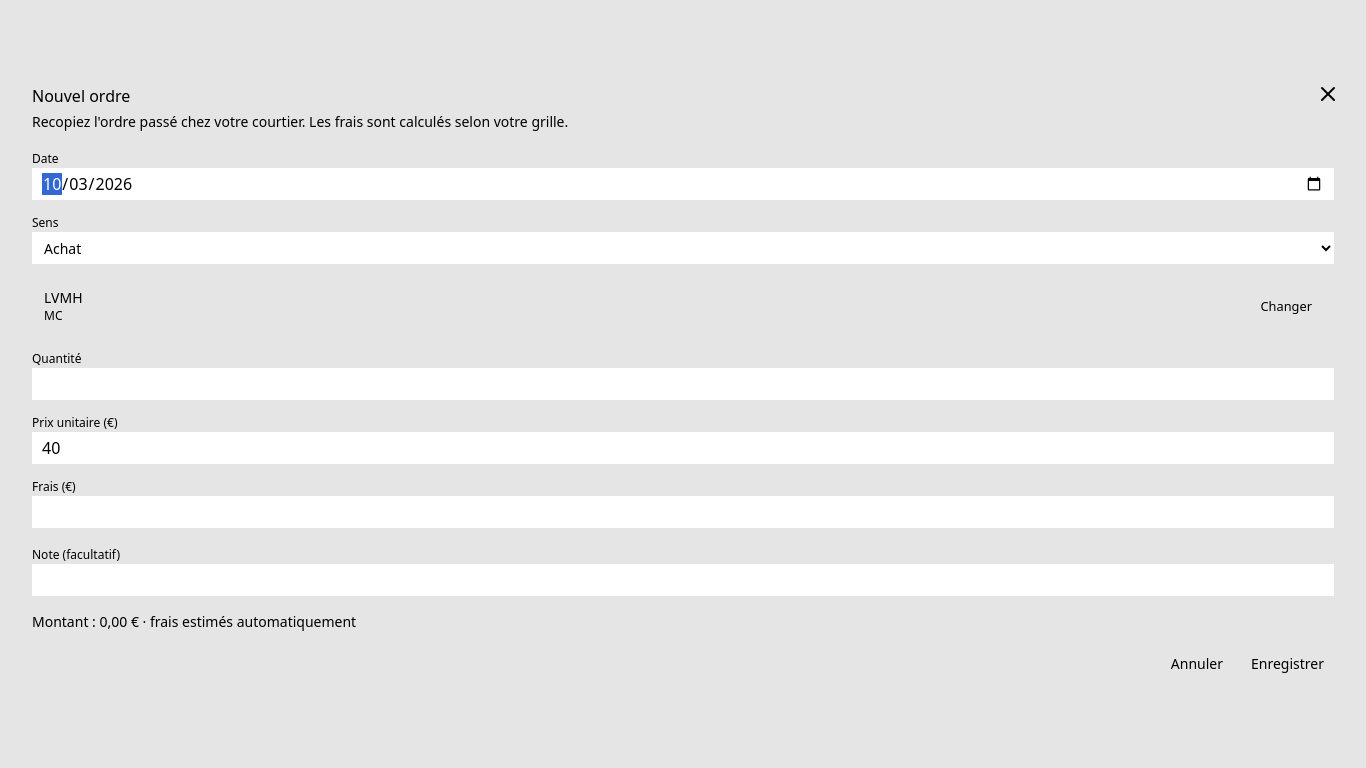
vider des frais saisis à la main revient à l'estimation automatique
The image size is (1366, 768).
Type "10" into the field labelled "Quantité" at (683, 384), box [32,368,1334,400]
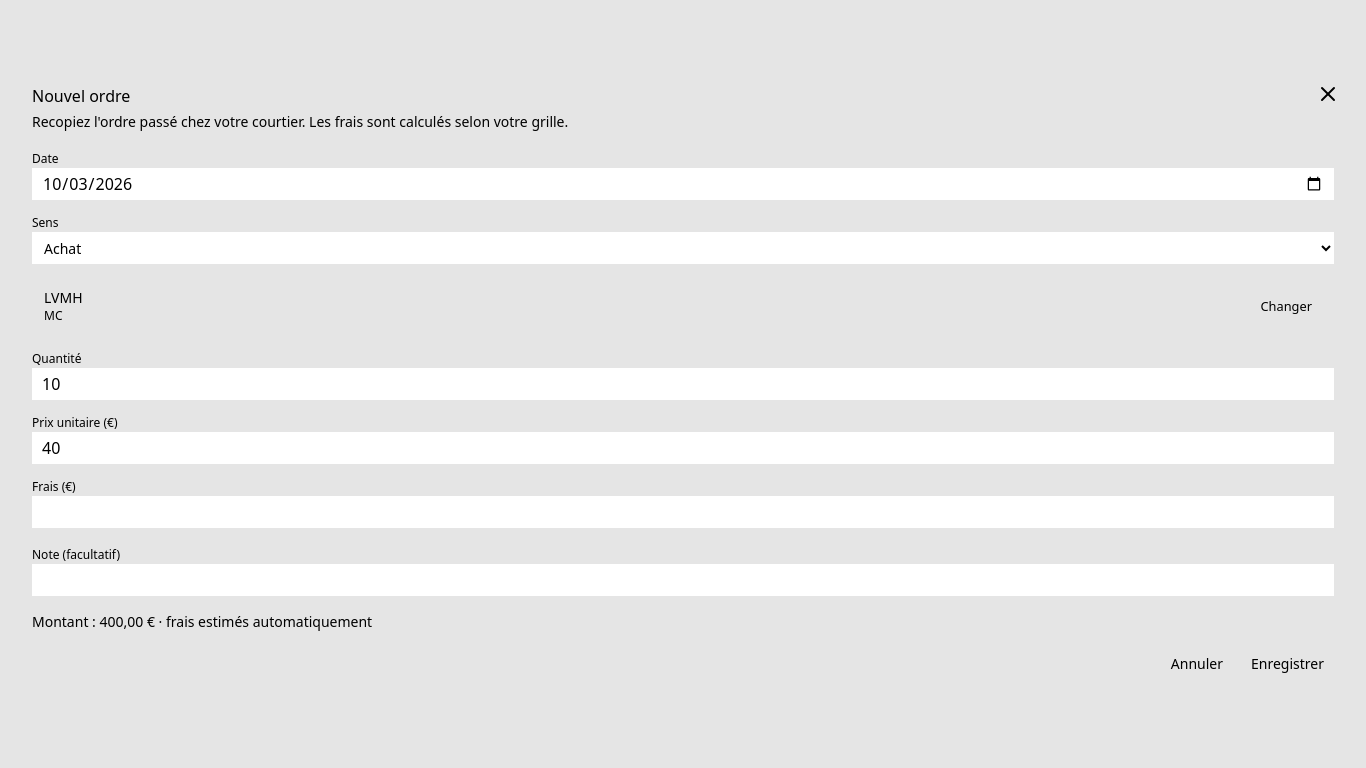
Type "5" into the field labelled "Frais (€)" at (683, 512), box [32,496,1334,528]
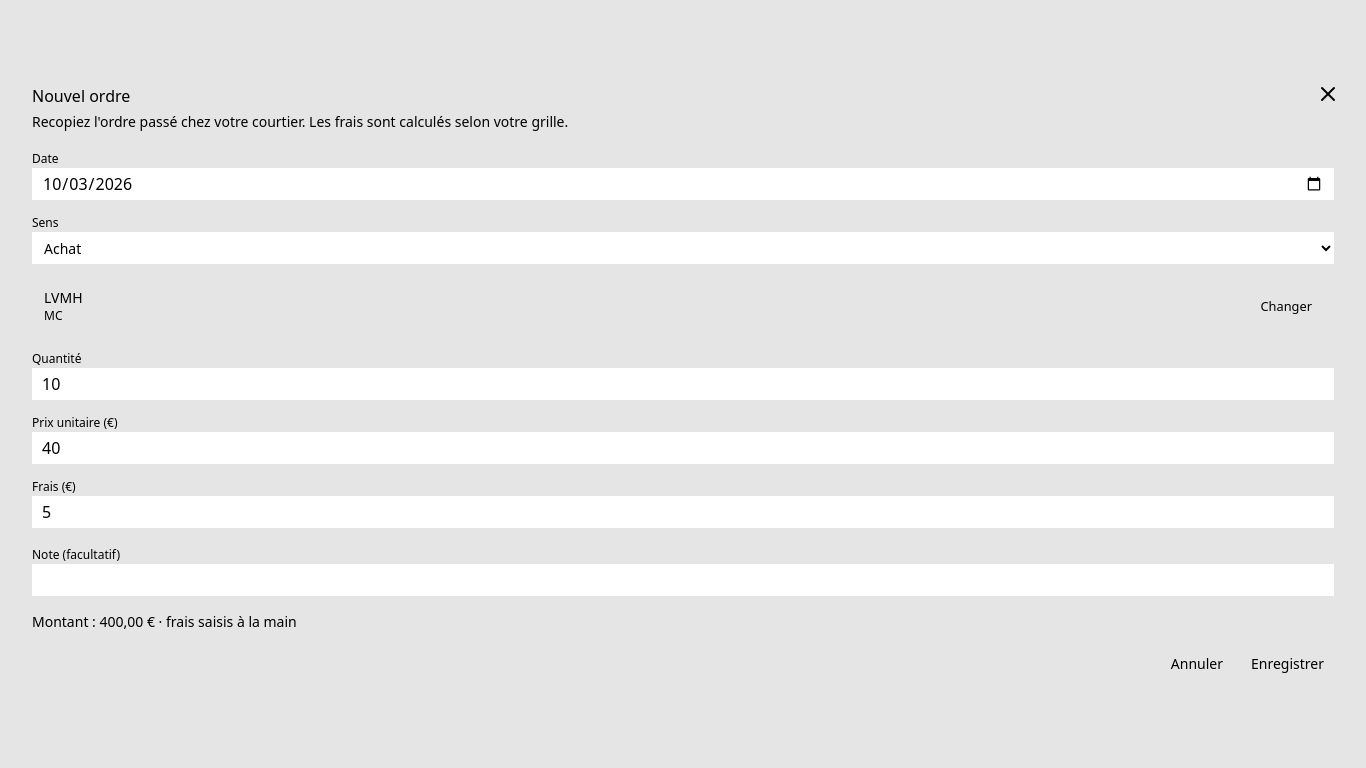
Result: the text "Montant : 400,00 € · frais saisis à la main" is shown at [32,612,297,631]
Clear the field labelled "Frais (€)" at (683, 512), box [32,496,1334,528]
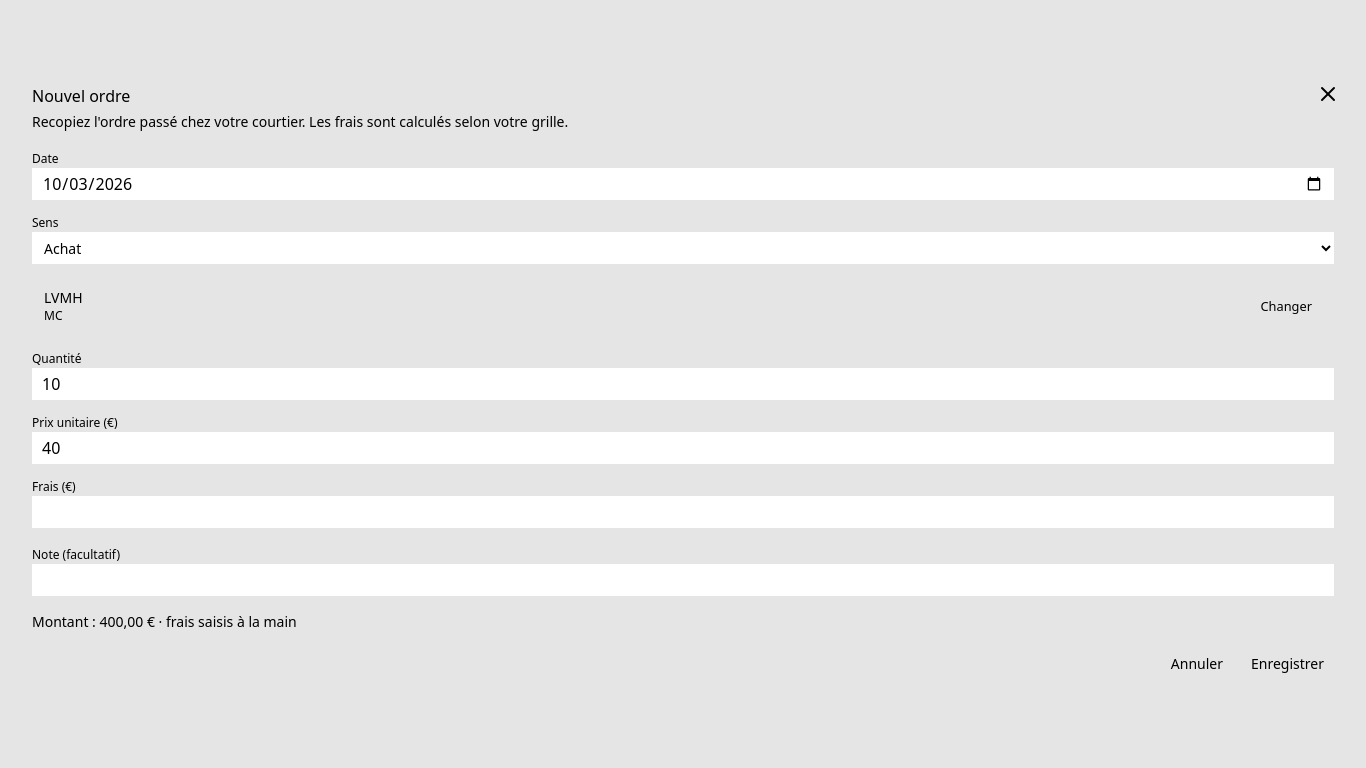
Press Tab
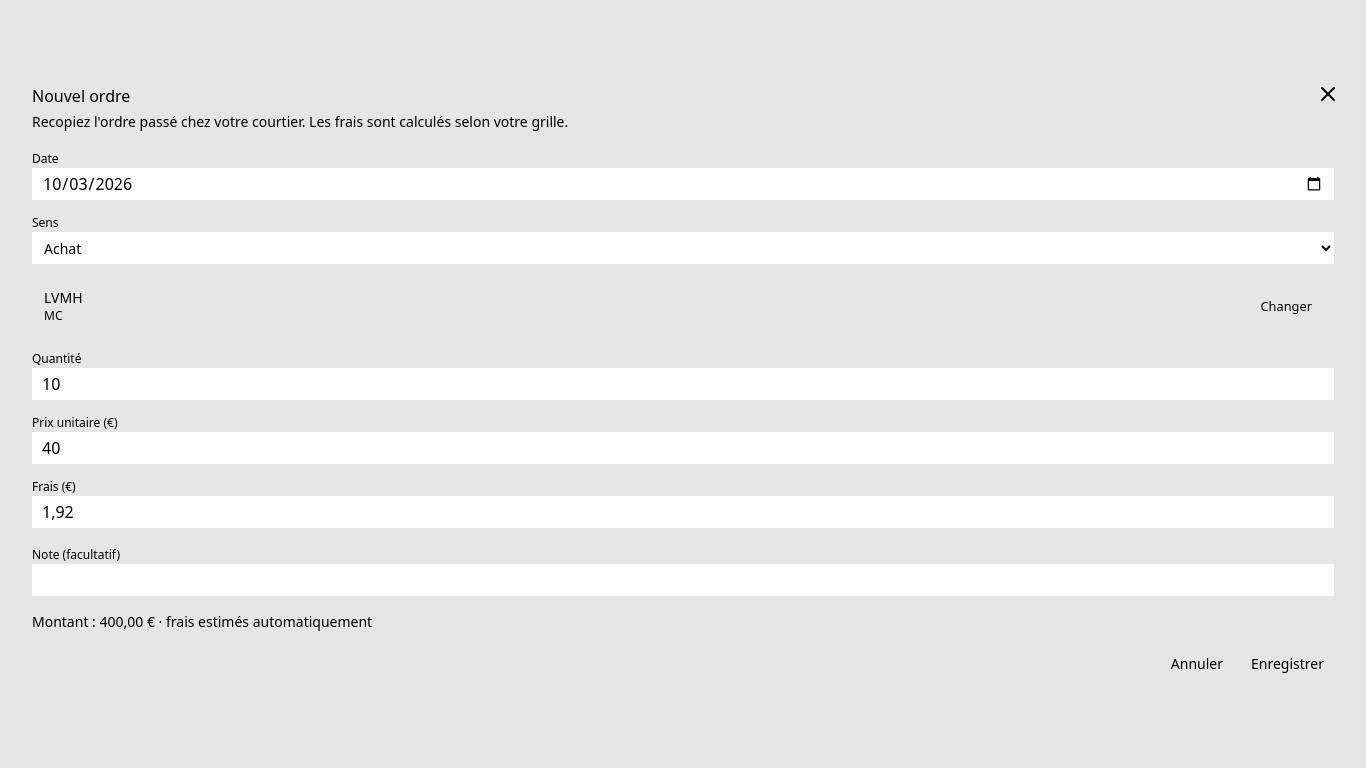
Result: the field labelled "Frais (€)" holds "1,92" at [32,496,1334,528]
Result: the text "Montant : 400,00 € · frais estimés automatiquement" is shown at [32,612,372,631]
